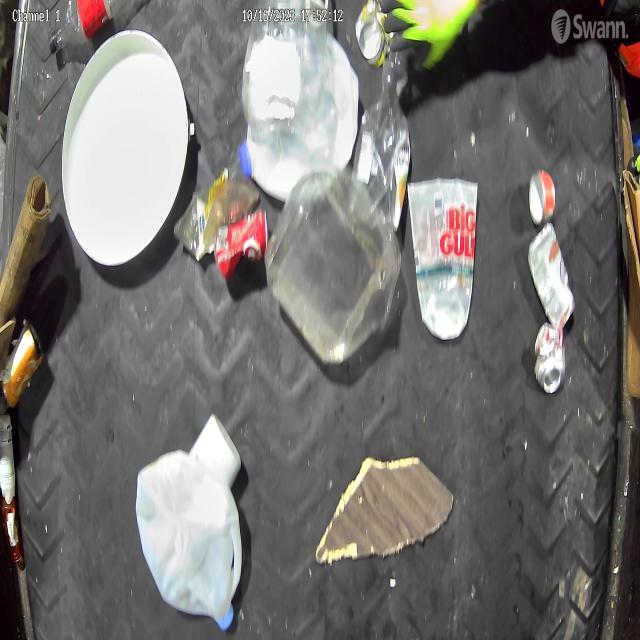can: (529, 221, 576, 329), (0, 321, 45, 409), (214, 210, 268, 280), (354, 0, 394, 70), (534, 323, 567, 394)
milk_jug: (238, 32, 358, 206), (134, 448, 244, 632)
plastic_bottle: (48, 0, 120, 56)
